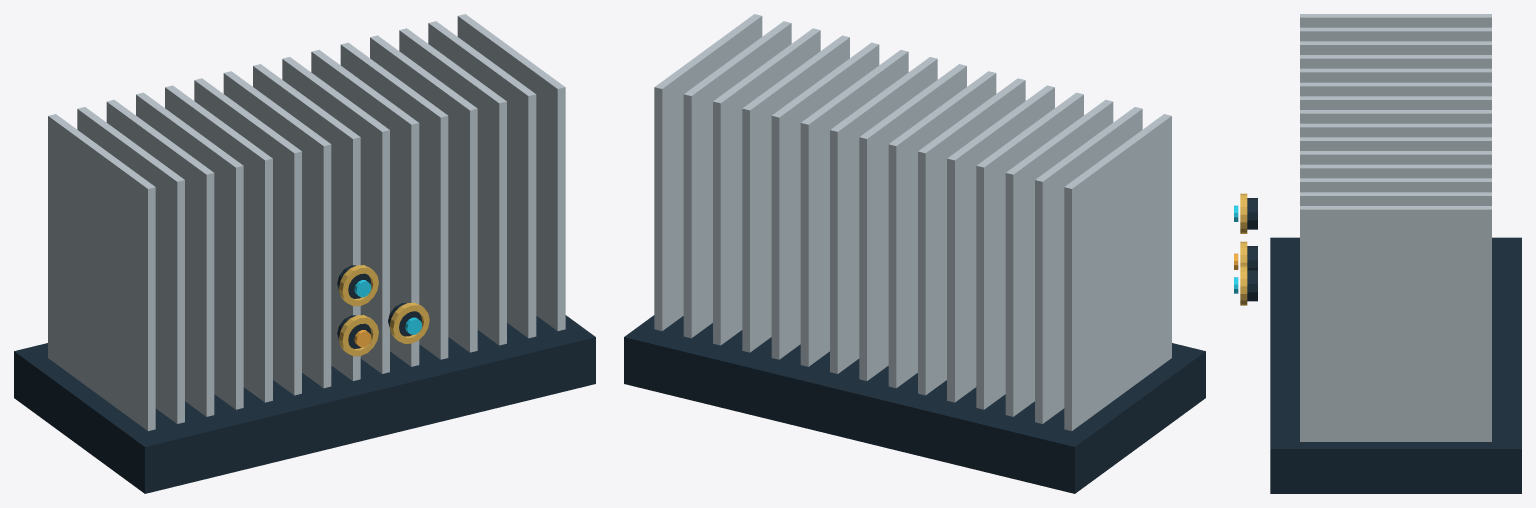
Rendered from 48_L83_BatteryRadiatorFinAssembly.fbx.
The picture shows the model from 3 angles, left to right: view 1: azimuth 30°, elevation 25°; view 2: azimuth 150°, elevation 25°; view 3: azimuth 270°, elevation 25°; orthographic projection. The views are drawn at different scales.
Visible parts, largest first — view 1: BatteryRadiatorFinAssembly; view 2: BatteryRadiatorFinAssembly; view 3: BatteryRadiatorFinAssembly.
Part boxes in pixels (box(x1,y1,x2,y2)): BatteryRadiatorFinAssembly: box(14, 14, 595, 493); BatteryRadiatorFinAssembly: box(624, 14, 1205, 493); BatteryRadiatorFinAssembly: box(1234, 14, 1521, 493).
Bounding box in the file's own units: 151 × 92.5 × 86.95.
